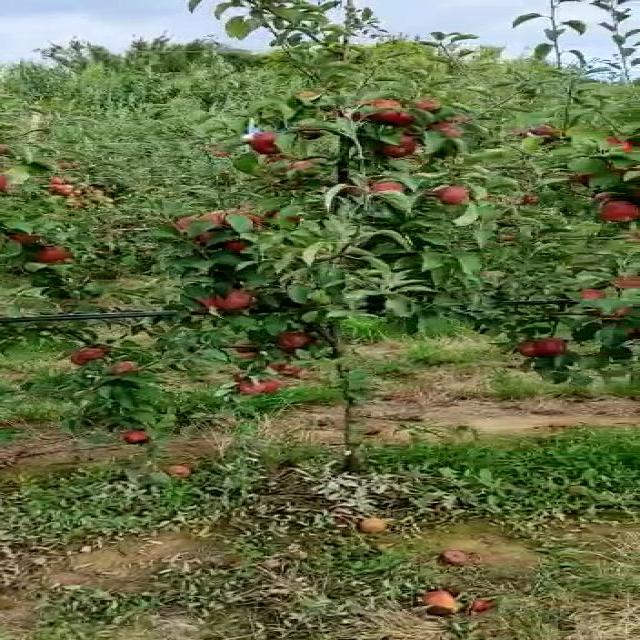100-_ripeness: (360, 180, 413, 202), (249, 129, 284, 153), (598, 200, 638, 221), (34, 243, 71, 265), (276, 331, 318, 350), (382, 135, 418, 157), (522, 339, 562, 358), (222, 288, 256, 310), (385, 110, 422, 127), (238, 379, 278, 394), (444, 182, 466, 207), (80, 348, 100, 359)
